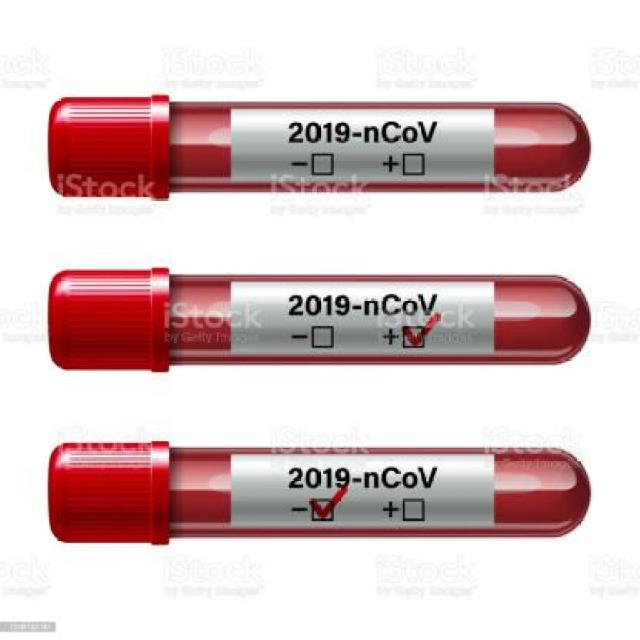Experimental-tube: (44, 437, 590, 548), (49, 265, 592, 372), (43, 94, 595, 194)
